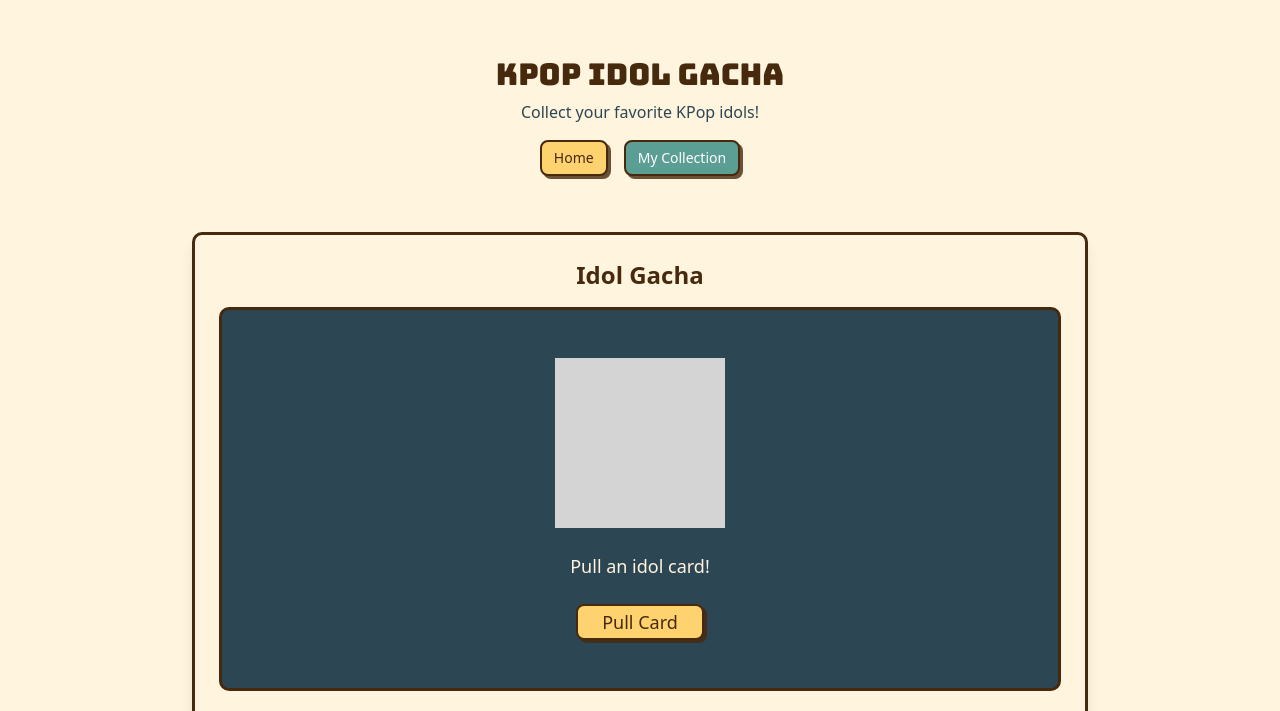
Test: Data-Cy Attributes Comprehensive Test › Collection Page Elements › should toggle sort direction
Click the button with test id "my-collection-button".
click(682, 158)  # box left=624, top=140, right=740, bottom=176
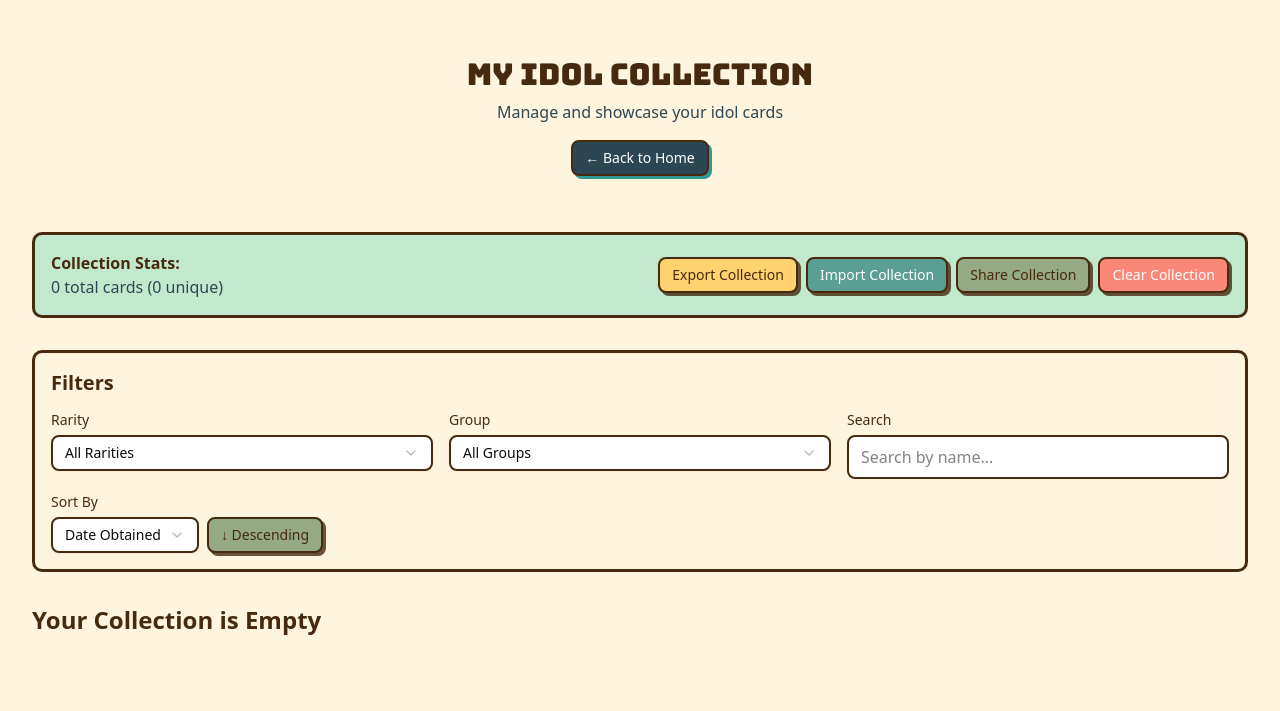
Result: the button with test id "sort-direction-button" shows "Descending"
Click the button with test id "sort-direction-button".
click(265, 535)  # box left=207, top=517, right=323, bottom=553
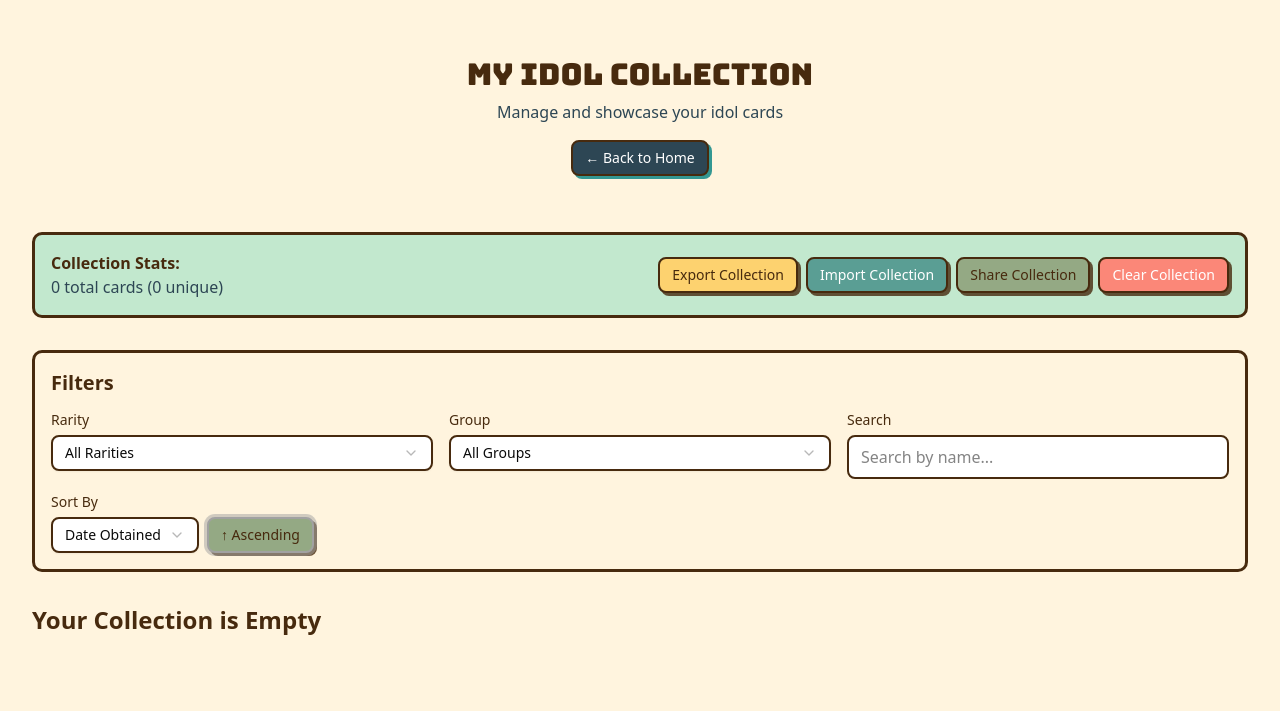
Result: the button with test id "sort-direction-button" shows "Ascending"
Click the button with test id "sort-direction-button".
click(261, 535)  # box left=207, top=517, right=314, bottom=553
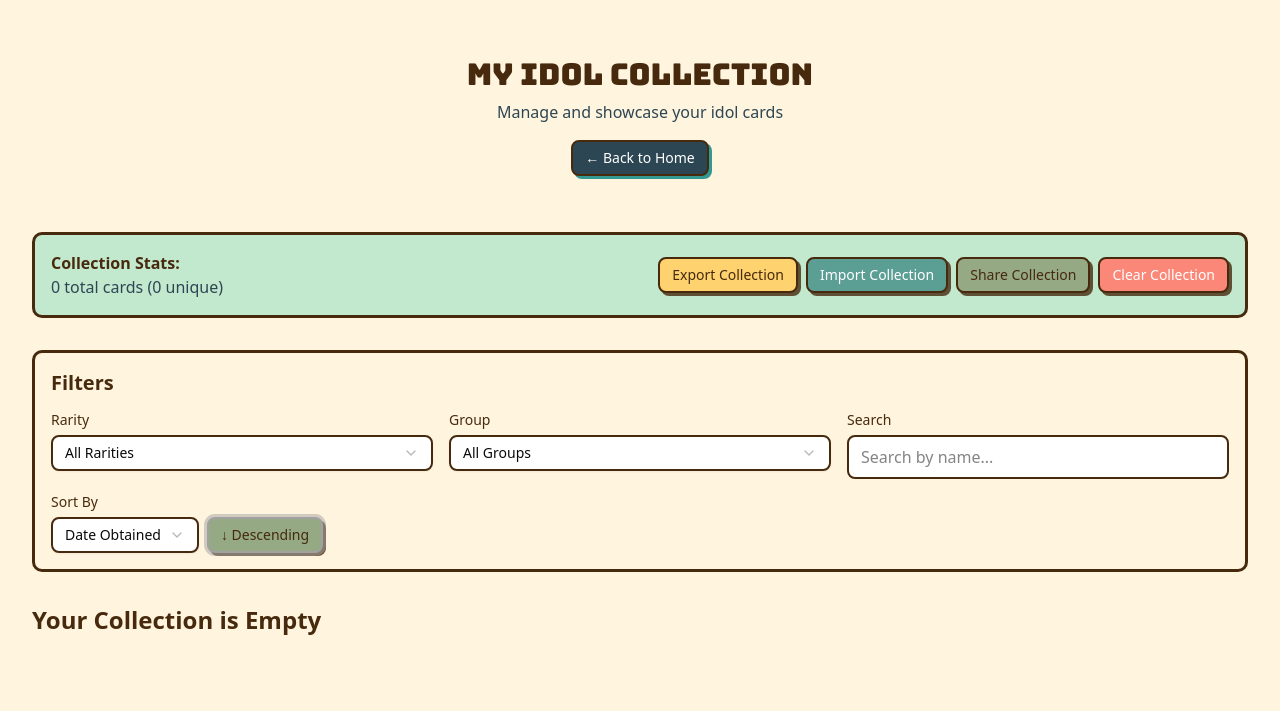
Result: the button with test id "sort-direction-button" shows "Descending" at left=207, top=517, right=323, bottom=553
